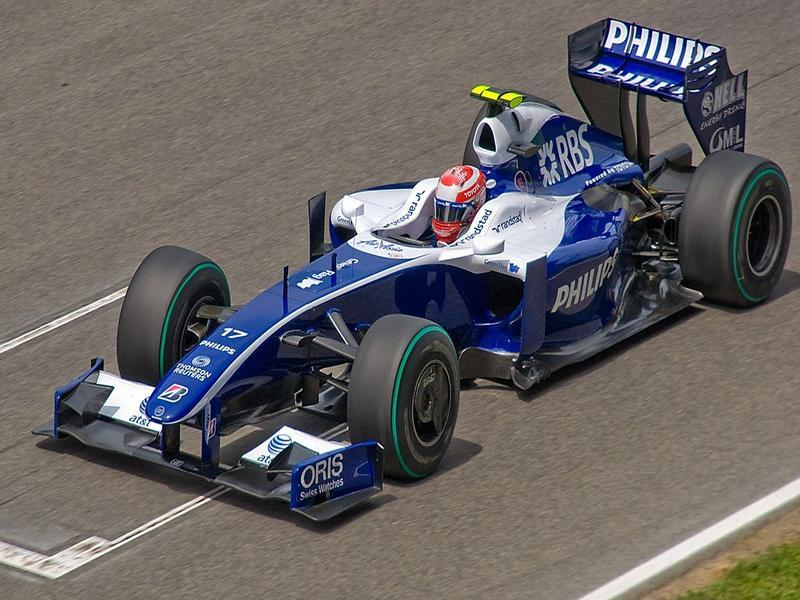f1: (45, 18, 792, 502)
